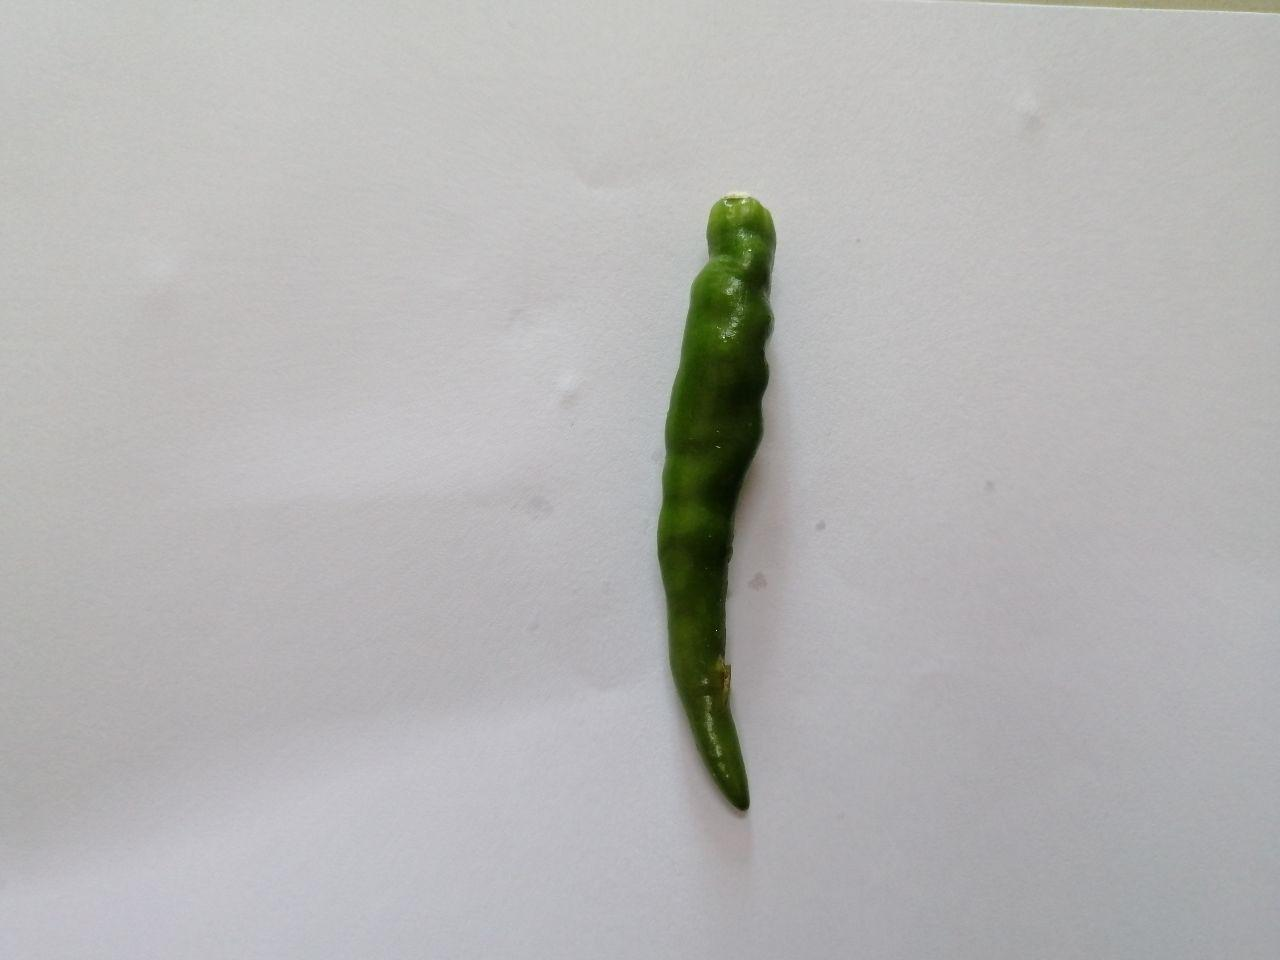lada hijau: (652, 171, 821, 840)
